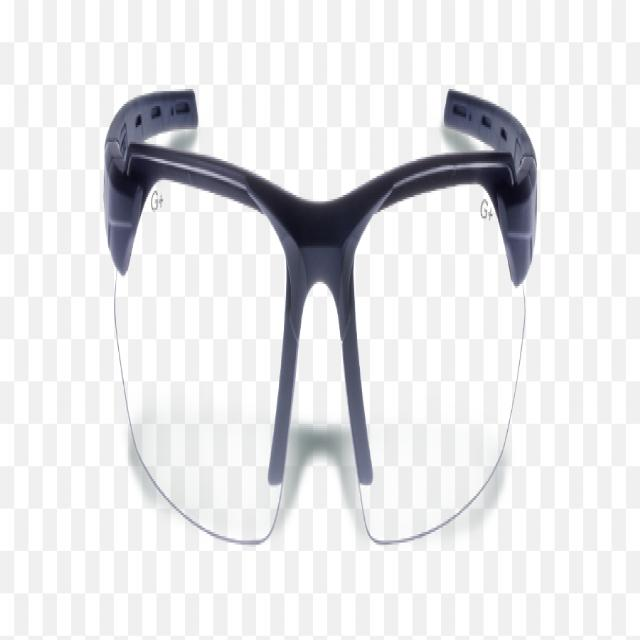Protective Glasses: (59, 7, 581, 610)
